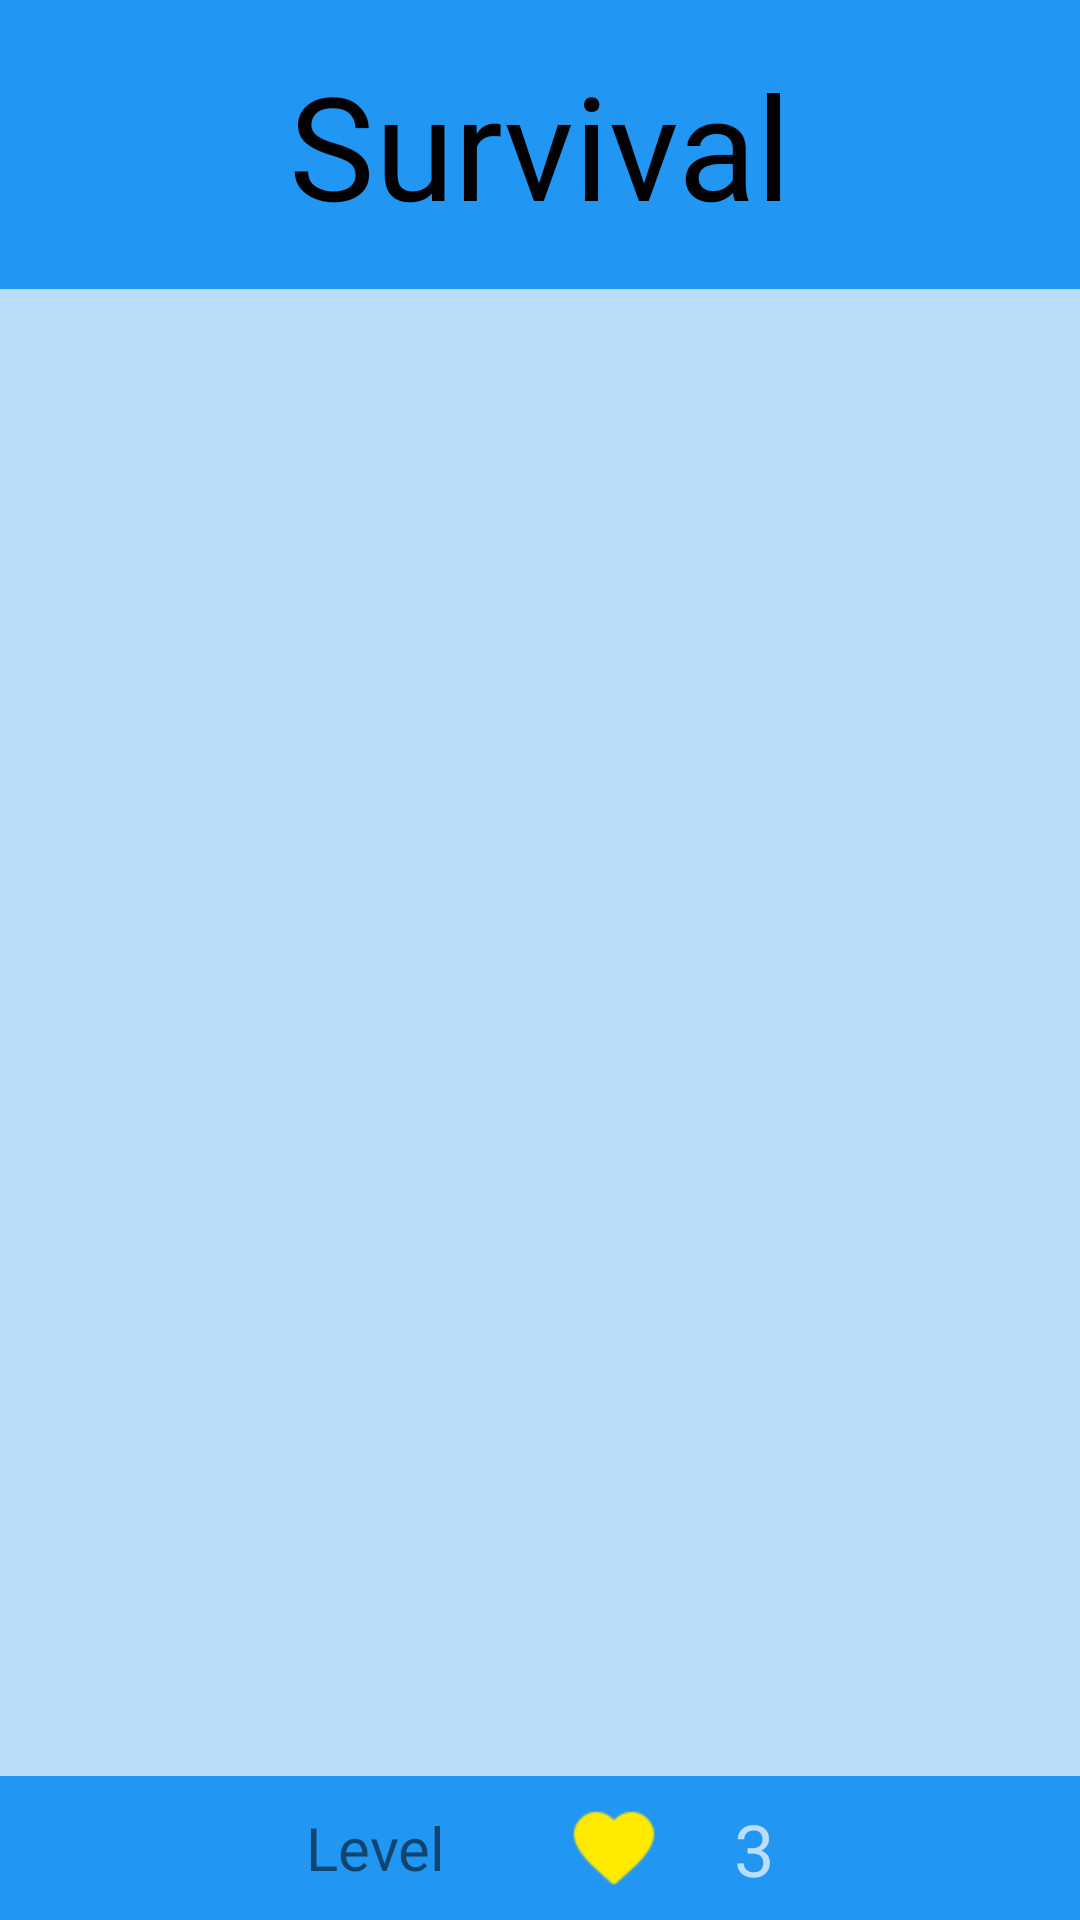

Icons on this 1080w x 1920h Android screen, each with its box as (x1, y1, x2, y2):
heart: (573, 1811, 655, 1885)
